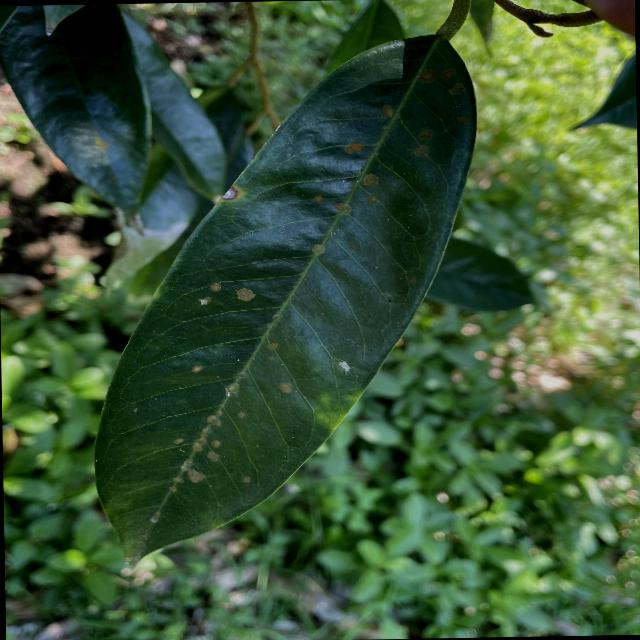Algal Leaf Spot: (74, 26, 493, 569)
